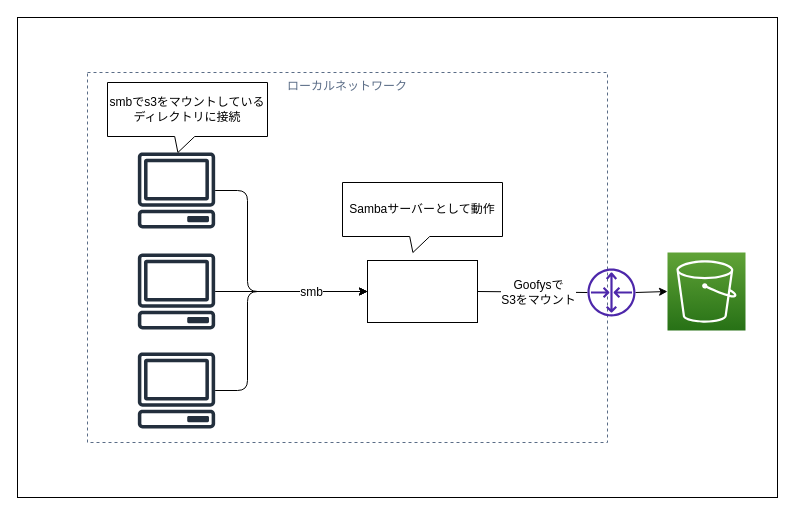
Image size: 795x515. Some labels were removed from this diagram. Here are the shapes that lost their labels. From the top down, the centre of each, then its label:
At (422,291): "Cassys (Raspberry Pi)".
At (706,291): "S3バケット".
